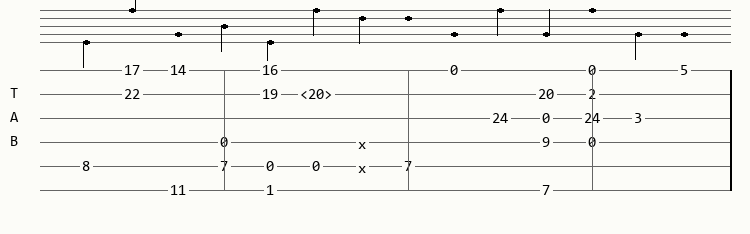0: (220, 135, 232, 149), (266, 159, 278, 173), (312, 159, 324, 173), (450, 63, 462, 77), (542, 111, 554, 125), (588, 135, 600, 149), (588, 63, 600, 77)
1: (266, 183, 278, 197)
11: (170, 183, 190, 197)
14: (170, 63, 190, 77)
16: (262, 63, 282, 77)
17: (124, 63, 144, 77)
19: (262, 87, 282, 101)
2: (588, 87, 600, 101)
20: (538, 87, 558, 101)
22: (124, 87, 144, 101)
24: (492, 111, 512, 125), (584, 111, 604, 125)
3: (634, 111, 646, 125)
5: (680, 63, 692, 77)
7: (220, 159, 232, 173), (404, 159, 416, 173), (542, 183, 554, 197)
8: (82, 159, 94, 173)
9: (542, 135, 554, 149)
harmonic: (300, 87, 336, 101)
x: (358, 137, 370, 148), (358, 161, 370, 172)
